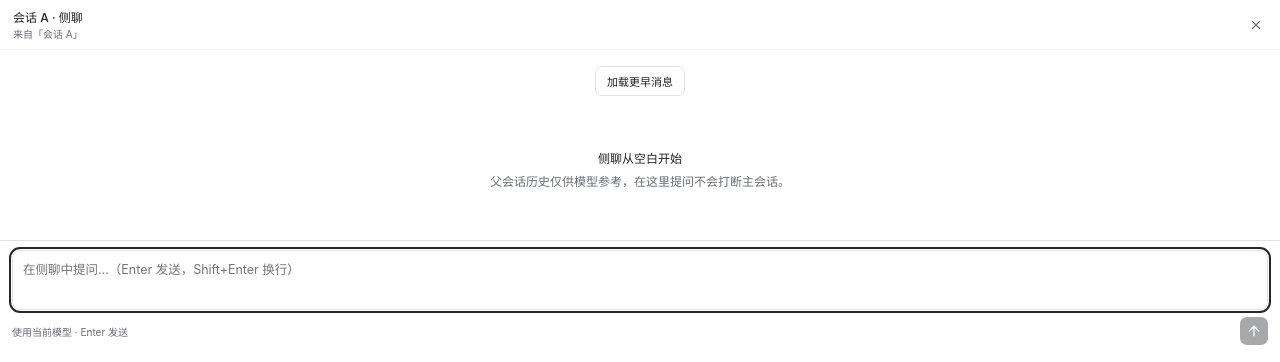
Test: 侧聊视图 › 加载更早消息使用游标并在到达开头后提示
This screenshot has width=1280, height=362.
Click the button "加载更早消息" at (640, 81), box x1=595 y1=66 x2=685 y2=96
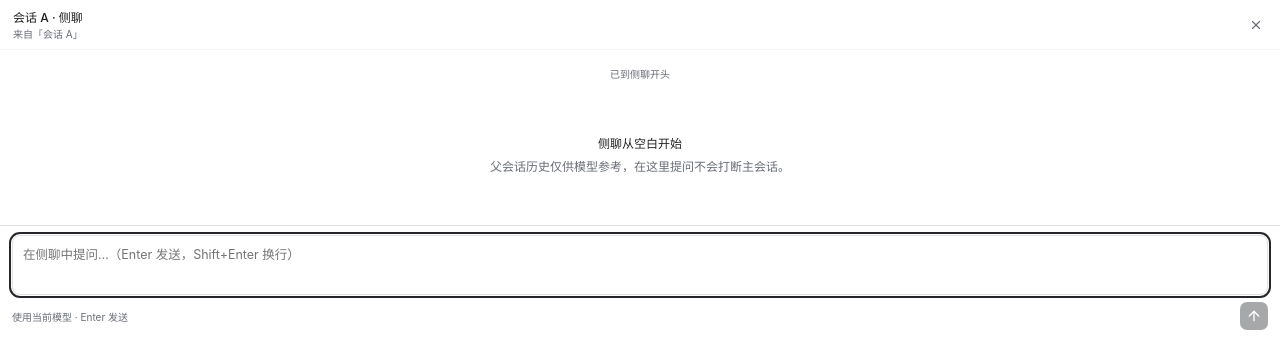
Expected: the text "已到侧聊开头" is shown, x1=610 y1=66 x2=670 y2=81
